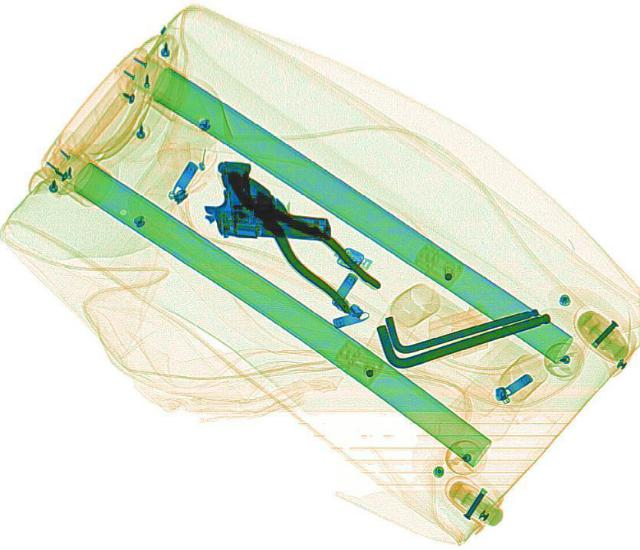Gun: (198, 158, 334, 239)
Pliers: (206, 156, 384, 312)
